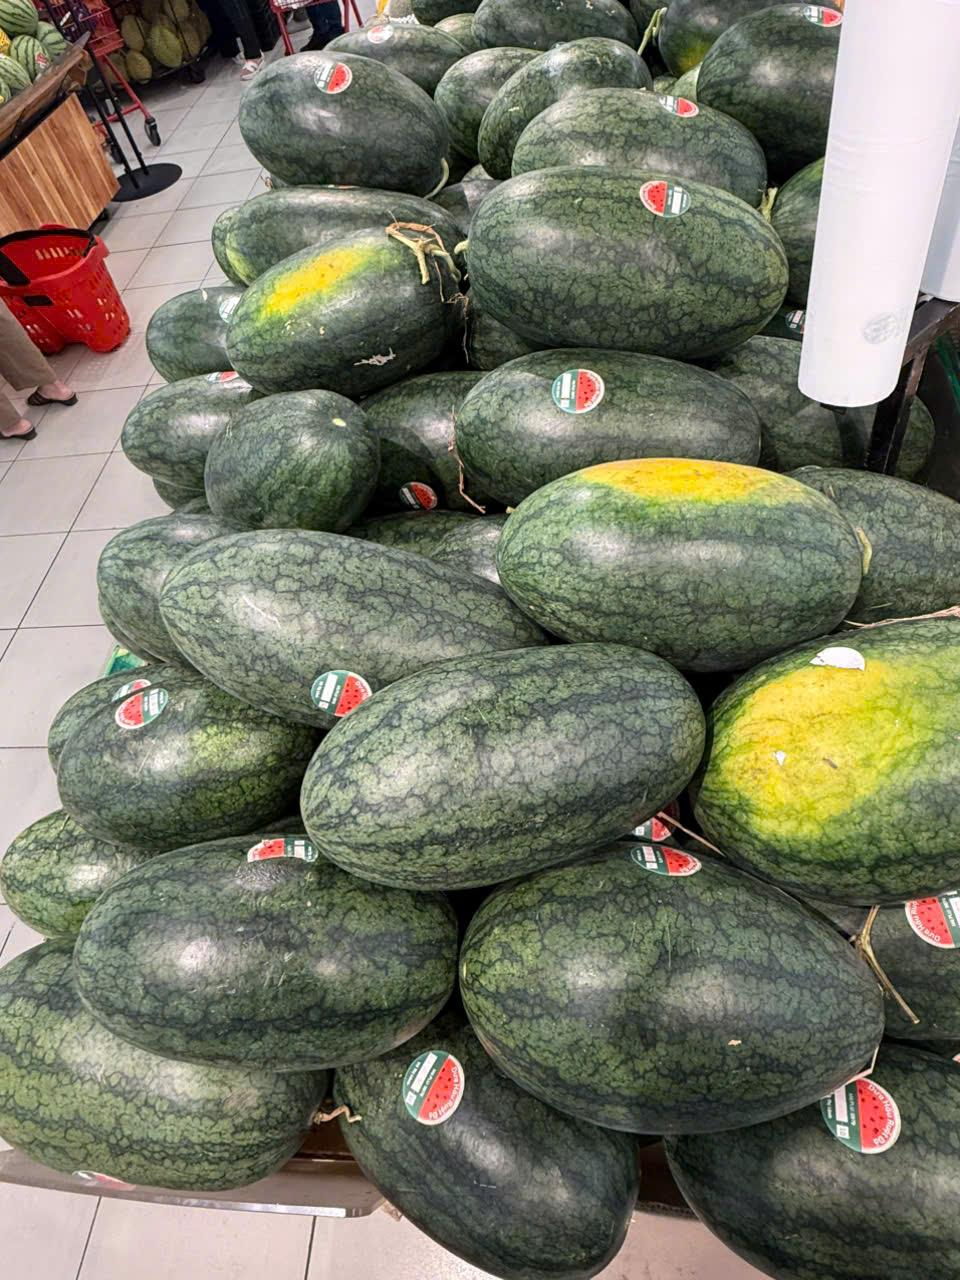watermelon: (470, 858, 892, 1136), (280, 638, 716, 906), (73, 838, 470, 1074), (8, 933, 320, 1206), (305, 1040, 656, 1272), (490, 456, 860, 664), (654, 1050, 960, 1280), (165, 531, 526, 712), (710, 620, 960, 876), (465, 166, 792, 344), (223, 218, 458, 394), (62, 686, 314, 842), (450, 350, 792, 462), (237, 48, 448, 198), (510, 80, 776, 190), (205, 386, 382, 532)
